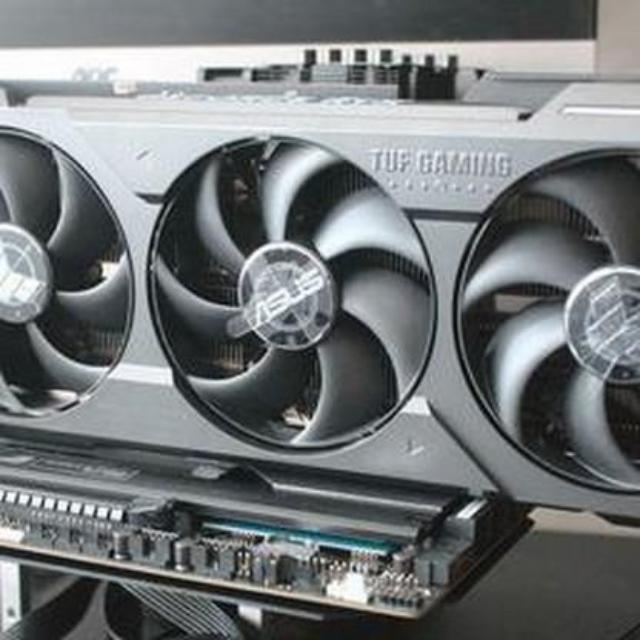GPU: (0, 77, 640, 517)
